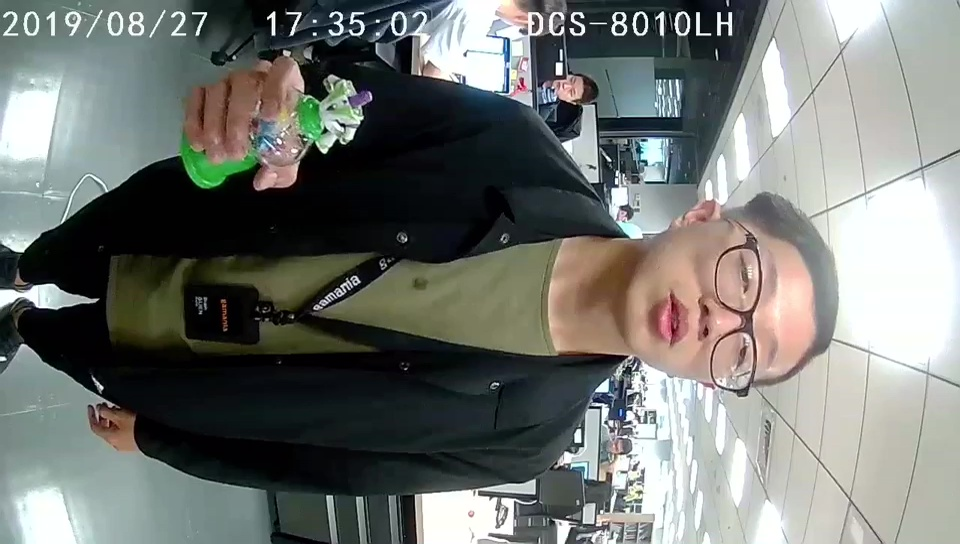buzz: (179, 73, 372, 189)
